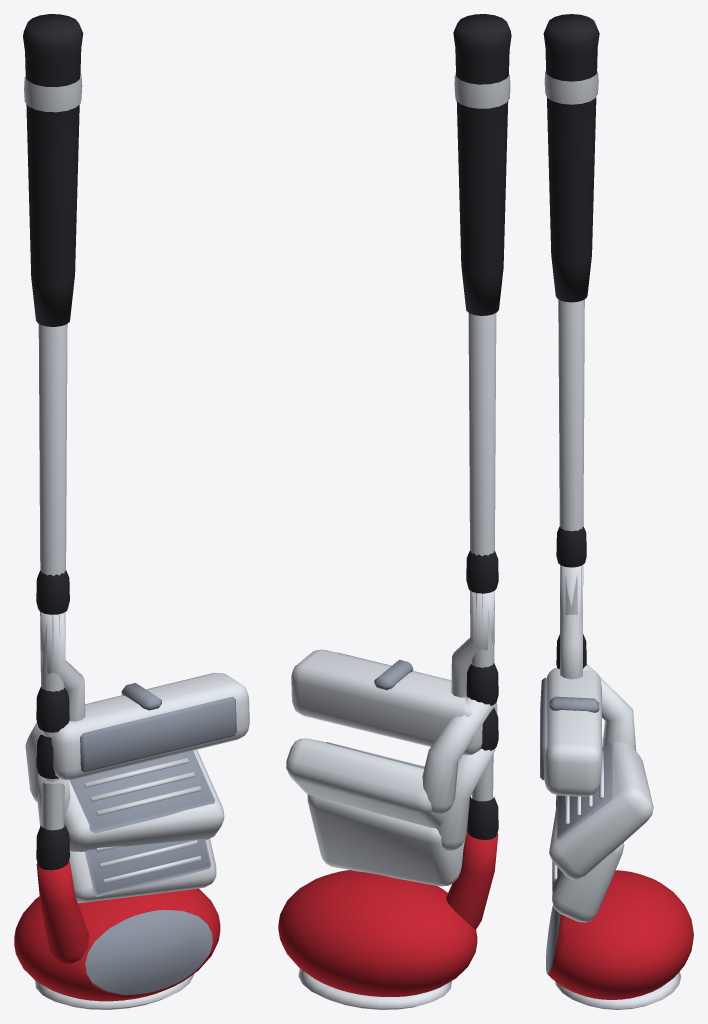
Rendered from clubs.glb.
The picture shows the model from 3 angles, left to right: view 1: azimuth 30°, elevation 25°; view 2: azimuth 150°, elevation 25°; view 3: azimuth 270°, elevation 25°; orthographic projection. The views are drawn at different scales.
Parts seen in each view (by area): view 1: club_driver, club_putter, club_wedge, club_iron; view 2: club_driver, club_putter, club_wedge, club_iron; view 3: club_driver, club_putter, club_wedge, club_iron.
Part boxes in pixels (box(x1,y1,x2,y2)): club_driver: box(14, 14, 220, 1009); club_putter: box(36, 570, 249, 780); club_wedge: box(25, 687, 224, 851); club_iron: box(36, 735, 216, 903); club_driver: box(278, 14, 511, 1009); club_putter: box(291, 550, 498, 755); club_wedge: box(286, 663, 498, 828); club_iron: box(307, 707, 498, 886); club_driver: box(543, 14, 693, 1009); club_putter: box(540, 527, 601, 796); club_wedge: box(549, 634, 653, 879); club_iron: box(552, 737, 624, 922).
Size of the model in its own units: 0.1786 by 0.8015 by 0.1208.
